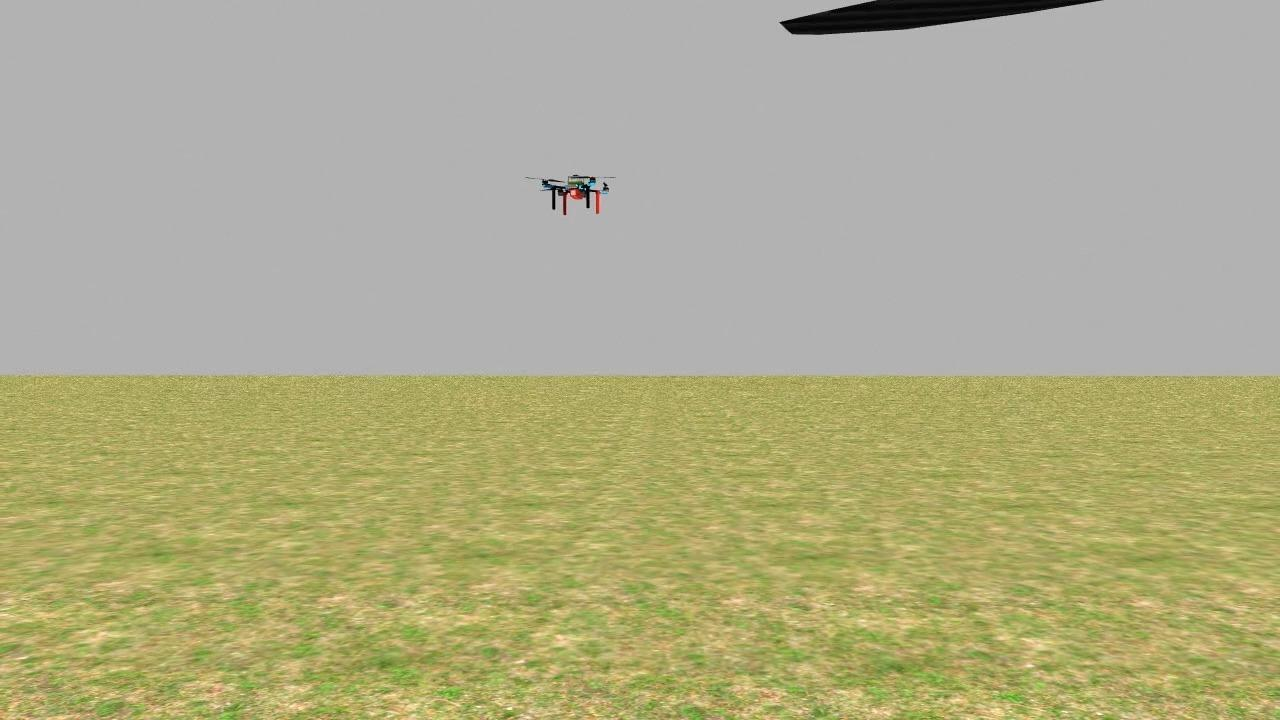UAV: (534, 160, 620, 229)
